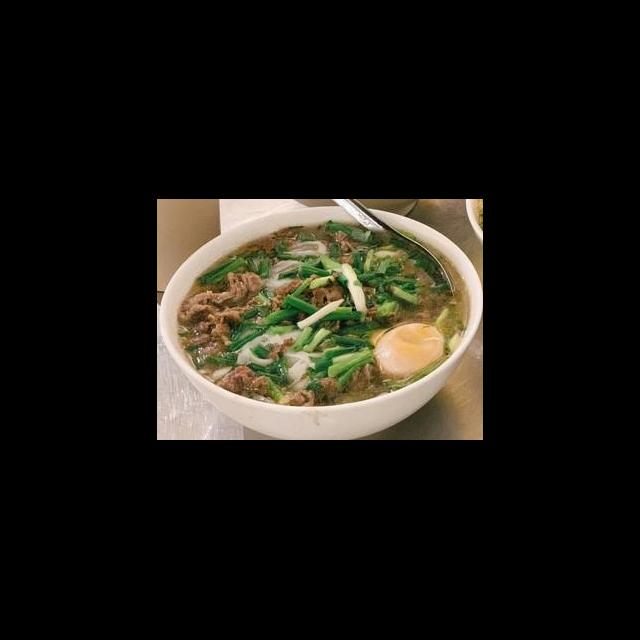banh pho: (238, 322, 326, 392), (266, 237, 328, 290)
pho bo: (159, 221, 483, 440)
thit bo: (172, 264, 265, 356), (267, 270, 380, 334), (212, 358, 271, 406), (279, 376, 344, 412), (345, 354, 382, 394), (334, 230, 358, 266)
trung: (366, 318, 449, 382)
